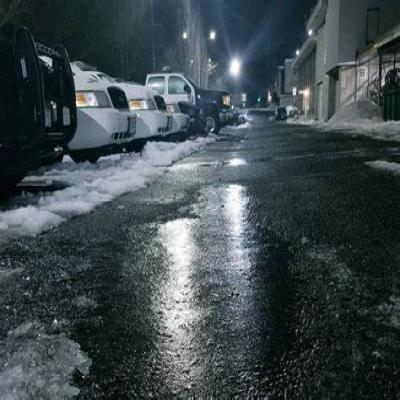iced-road: (0, 137, 400, 400)
